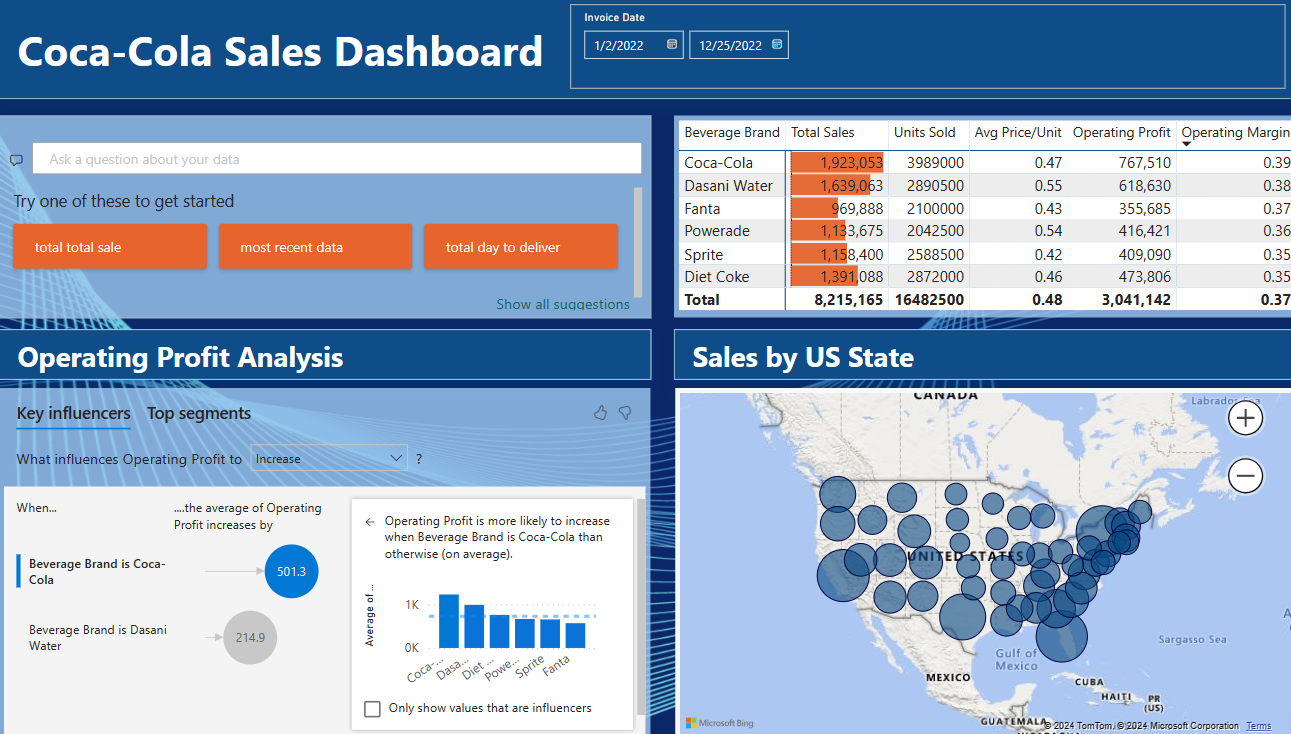

What the dashboard file says about the page in this screenshot:
{"tool":"powerbi","page":{"name":"Page 1","canvas":[1280,720],"ordinal":0},"visuals":[{"type":"shape","title":"Coca","box":[10,0,1258.8,97.5],"z":0},{"type":"shape","title":"Coca","box":[10,320,630,48.8],"z":1000},{"type":"shape","title":"Coca","box":[662.5,320,606.2,48.8],"z":2000},{"type":"qnaVisual","box":[10,113.8,630,196.2],"z":3000},{"type":"keyDriversVisual","fields":{"Target":["Data.Operating Profit"],"ExplainBy":["Data.Beverage Brand"]},"box":[9.6,377.4,629.8,343.1],"z":4000},{"type":"map","fields":{"Category":["Data.State"],"Size":["Sum(Data.Total Sales)"]},"box":[662.8,377.4,606.5,343.1],"z":5000},{"type":"pivotTable","fields":{"Rows":["Data.Beverage Brand"],"Values":["Sum(Data.Total Sales)","Sum(Data.Units Sold)","Avg(Data.Price per Unit)","Sum(Data.Operating Profit)","Avg(Data.Operating Margin)"]},"box":[662.5,113.8,607.5,195],"z":6000},{"type":"slicer","fields":{"Values":["Data.Invoice Date"]},"box":[561.2,6.2,691.2,81.2],"z":7000}]}

Visuals, with their boxes in screenshot pixels (x1, y1, x2, y2), scaled from the page's 1280x720 canvas onto the 1291x734 screenshot:
"Coca" shape: l=10, t=0, r=1280, b=99
"Coca" shape: l=10, t=326, r=646, b=376
"Coca" shape: l=668, t=326, r=1280, b=376
qnaVisual: l=10, t=116, r=646, b=316
keyDriversVisual - Data.Operating Profit x Data.Beverage Brand: l=10, t=385, r=645, b=733
map - Data.State x Sum(Data.Total Sales): l=668, t=385, r=1280, b=733
pivotTable - Data.Beverage Brand x Sum(Data.Total Sales): l=668, t=116, r=1281, b=315
slicer - Data.Invoice Date: l=566, t=6, r=1263, b=89
